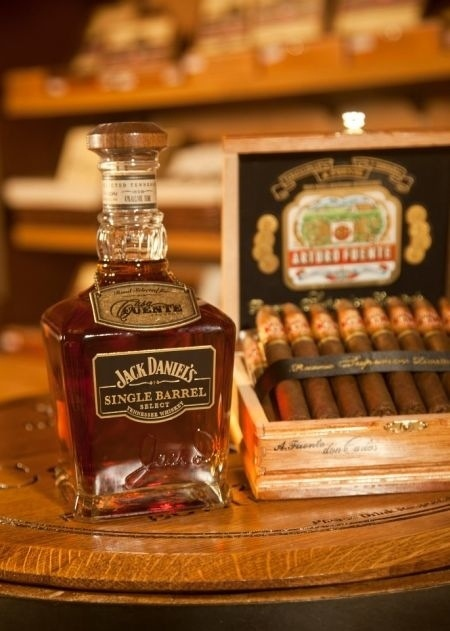Jack Daniel: (30, 106, 251, 533)
